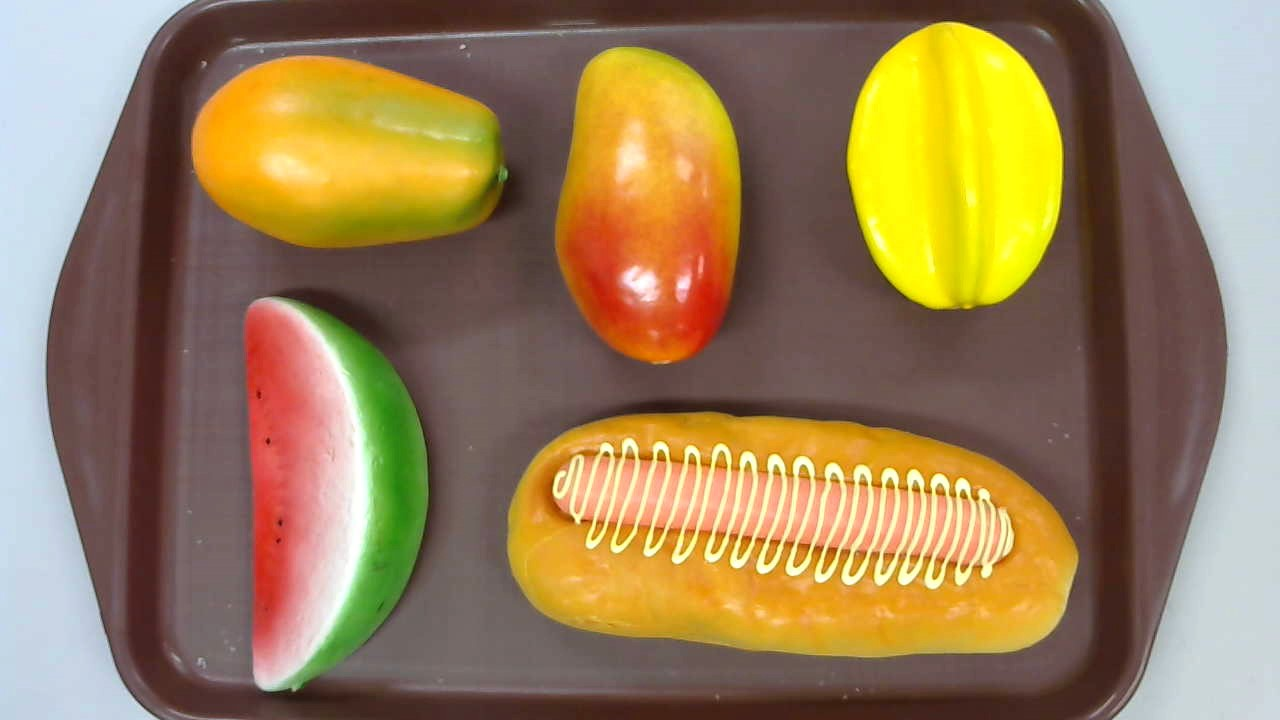hot dog: (505, 409, 1079, 658)
papya: (191, 54, 508, 247)
red mango: (552, 47, 740, 366)
star fruit: (847, 22, 1064, 312)
water melon: (241, 297, 428, 692)
